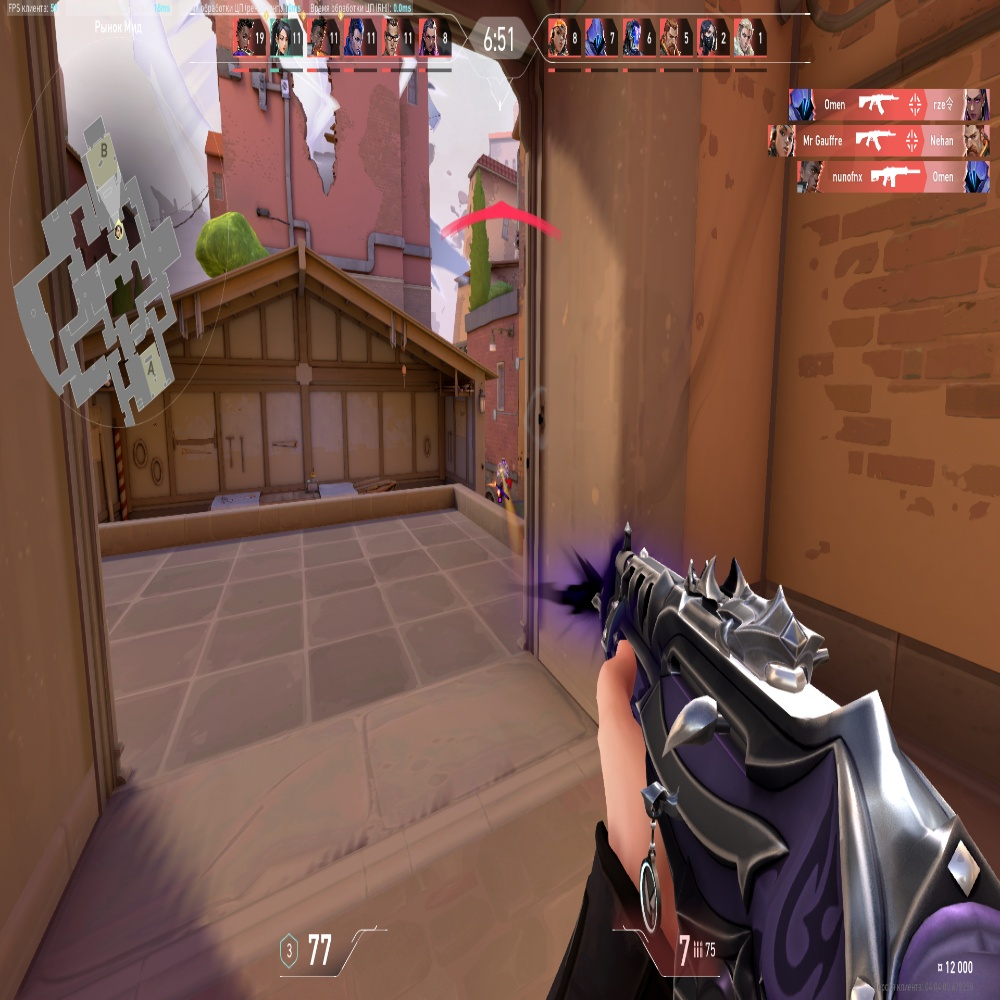body: (498, 466, 507, 481)
head: (501, 458, 506, 465)
